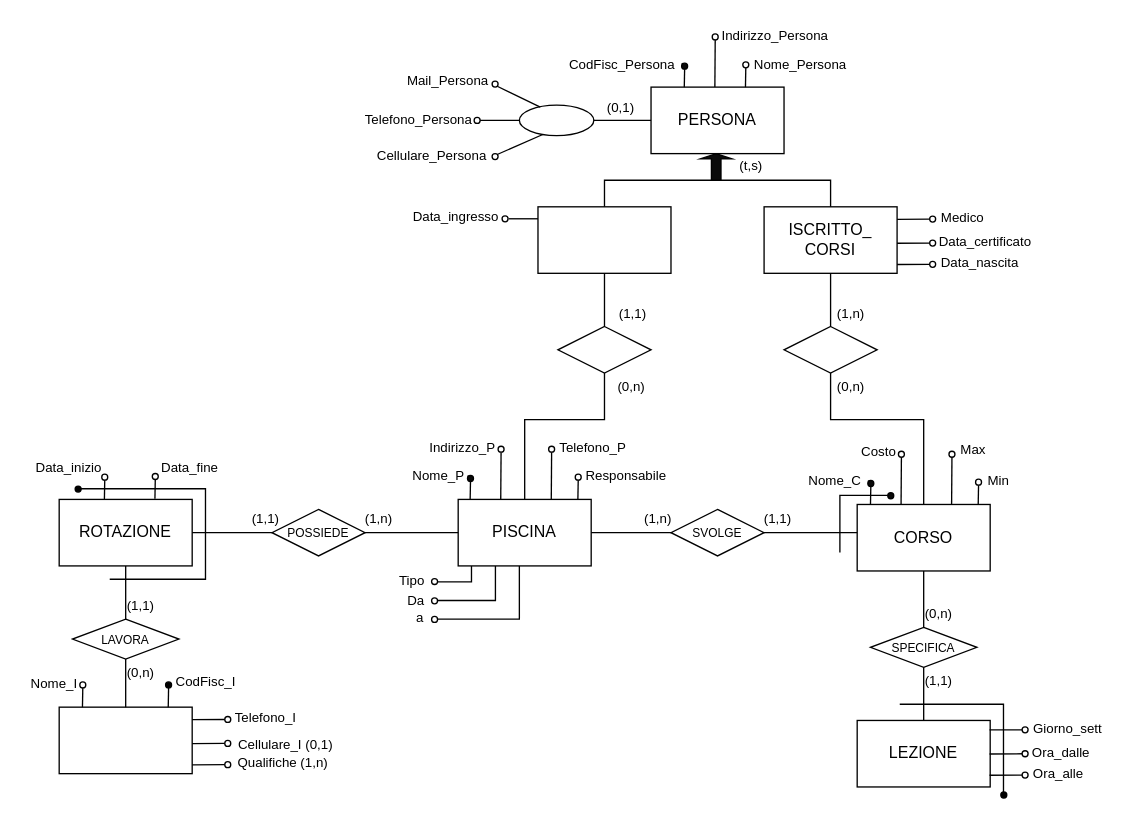
This 1133x821 diagram has some shape labels left out. Here are the shapes that lost their labels. From the top down, the box of each, then its label:
(518, 104, 594, 136): Contatti
(537, 205, 671, 273): INGRESSO_ SINGOLO
(557, 325, 651, 373): INGRESSO
(783, 325, 877, 373): ISCRIZIONE
(58, 706, 192, 774): INSEGNANTE
